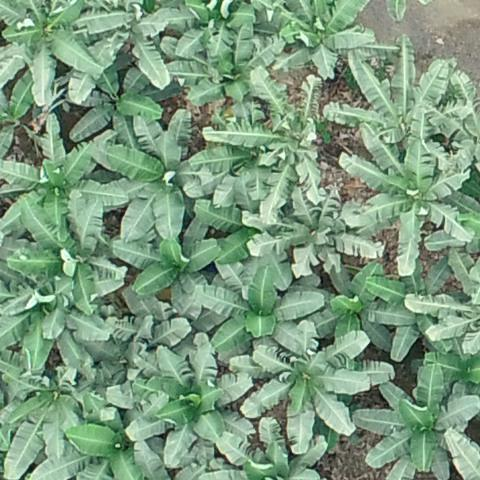Banana-plant: (236, 324, 394, 457), (340, 122, 474, 275), (199, 67, 332, 218), (111, 330, 252, 461), (0, 117, 126, 242), (328, 36, 472, 140), (12, 198, 122, 325), (353, 371, 480, 480), (1, 0, 134, 104), (94, 111, 197, 237), (192, 266, 323, 355), (244, 202, 383, 279), (1, 369, 92, 480), (72, 7, 169, 102), (0, 281, 110, 364), (30, 411, 161, 480), (266, 0, 372, 83), (110, 235, 217, 313), (166, 37, 285, 103), (188, 113, 273, 204), (367, 266, 450, 356), (310, 261, 390, 353), (200, 425, 330, 480), (68, 75, 163, 141), (152, 0, 256, 57)
